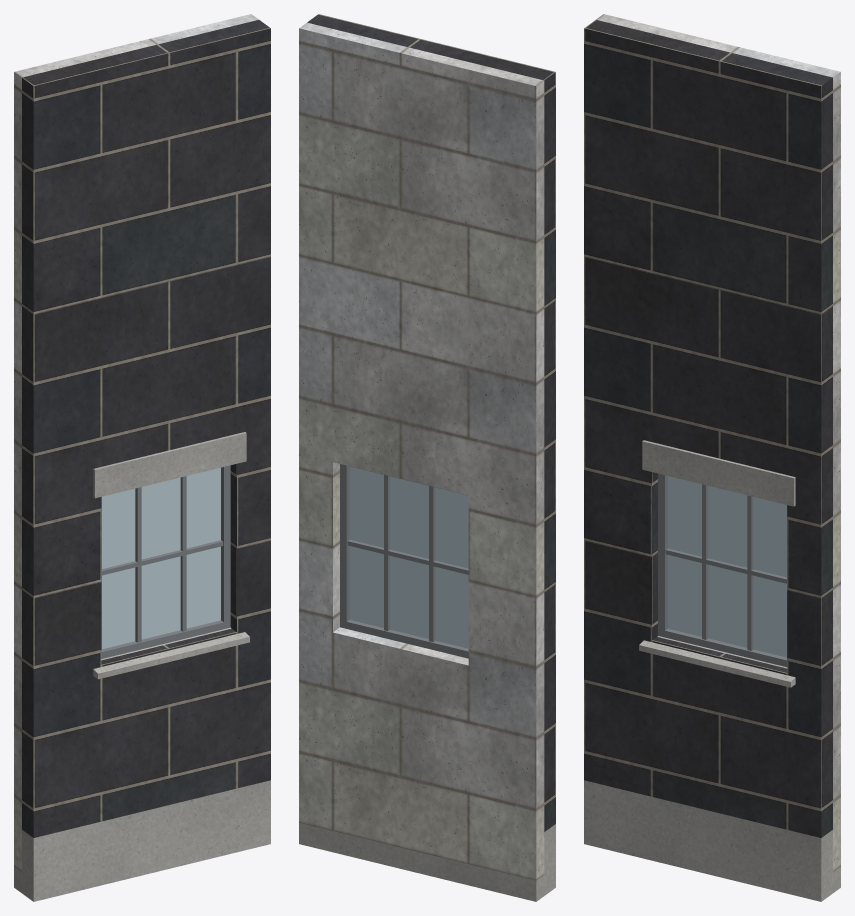
The model's file is k_win_n_r.glb.
The picture shows the model from 3 angles, left to right: view 1: azimuth 30°, elevation 25°; view 2: azimuth 150°, elevation 25°; view 3: azimuth 330°, elevation 25°; orthographic projection.
Parts seen in each view (by area): view 1: k_win_n_r_block_d, k_win_n_r_concrete, k_win_n_r_glass, k_win_n_r_block_l, k_win_n_r_steel_d; view 2: k_win_n_r_block_l, k_win_n_r_glass, k_win_n_r_block_d, k_win_n_r_concrete, k_win_n_r_steel_d; view 3: k_win_n_r_block_d, k_win_n_r_concrete, k_win_n_r_glass, k_win_n_r_block_l, k_win_n_r_steel_d.
Boxes of the visible parts, x1,y1,x2,y2 form: k_win_n_r_block_d: (22, 20, 270, 837); k_win_n_r_concrete: (14, 432, 270, 901); k_win_n_r_glass: (102, 467, 220, 649); k_win_n_r_block_l: (14, 14, 258, 871); k_win_n_r_steel_d: (101, 465, 230, 658); k_win_n_r_block_l: (299, 22, 544, 880); k_win_n_r_glass: (349, 466, 468, 648); k_win_n_r_block_d: (307, 14, 555, 831); k_win_n_r_concrete: (299, 823, 555, 901); k_win_n_r_steel_d: (340, 464, 468, 658); k_win_n_r_block_d: (584, 20, 832, 837); k_win_n_r_concrete: (584, 440, 840, 901); k_win_n_r_glass: (667, 476, 786, 657); k_win_n_r_block_l: (596, 14, 840, 871); k_win_n_r_steel_d: (658, 473, 787, 667).
Bounding box in the file's own units: 1.75 × 5.75 × 0.31.
Materials: 5 (3 with a texture image).
